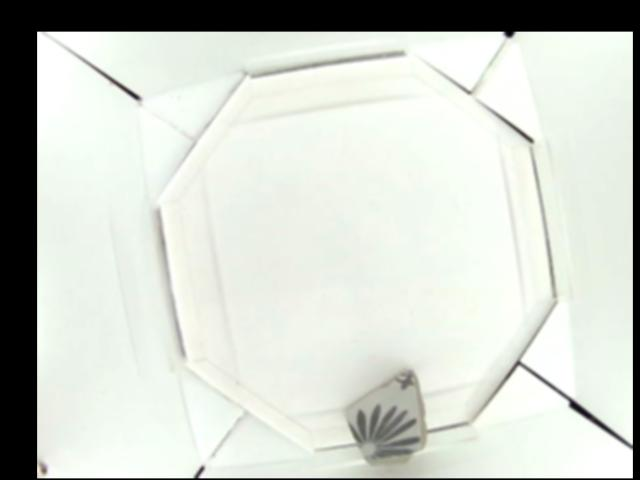China: (344, 367, 428, 466)
